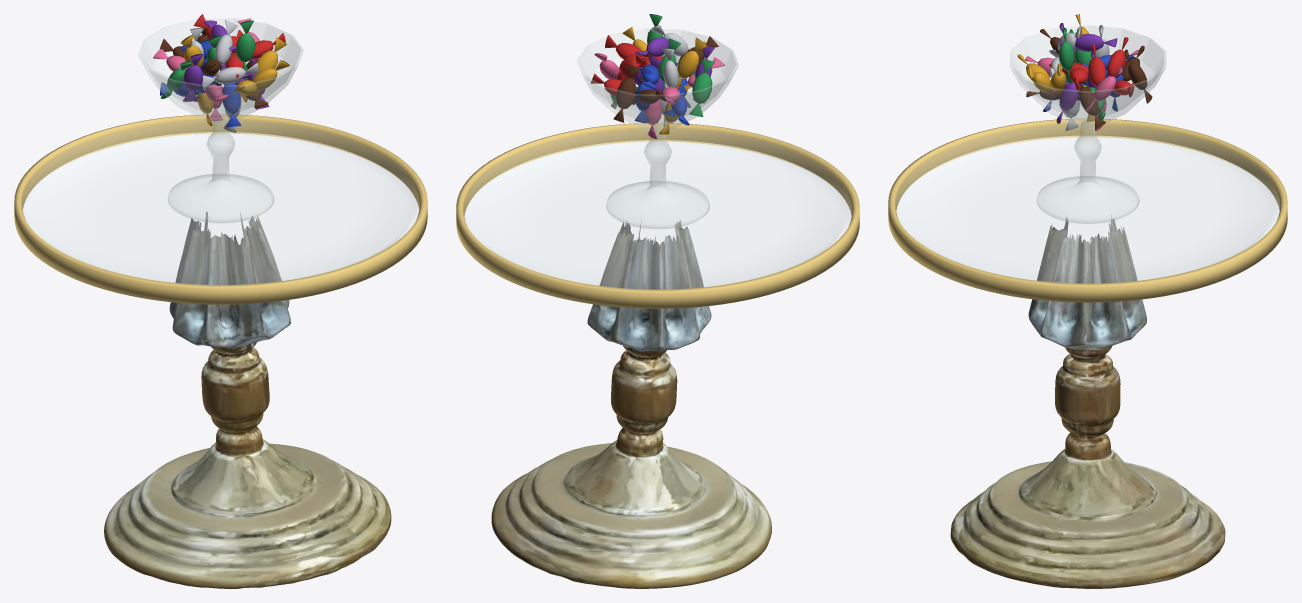
The model's file is konfet.glb.
3 views of the same model, side by side, from view 1: azimuth 30°, elevation 25°; view 2: azimuth 150°, elevation 25°; view 3: azimuth 270°, elevation 25° (orthographic). The views are drawn at different scales.
Visible parts, largest first — view 1: plate_glass, stend_tilla, plate_rim, bowl, foot; view 2: plate_glass, stend_tilla, plate_rim, bowl, foot; view 3: plate_glass, stend_tilla, plate_rim, bowl, foot.
Boxes of the visible parts, left/top/right/bottom form: plate_glass: left=22, top=120, right=419, bottom=285; stend_tilla: left=104, top=211, right=391, bottom=588; plate_rim: left=14, top=114, right=427, bottom=304; bowl: left=138, top=18, right=303, bottom=123; foot: left=168, top=116, right=273, bottom=222; plate_glass: left=464, top=129, right=851, bottom=289; stend_tilla: left=491, top=220, right=771, bottom=588; plate_rim: left=456, top=123, right=859, bottom=308; bowl: left=577, top=29, right=738, bottom=131; foot: left=606, top=125, right=709, bottom=228; plate_glass: left=896, top=125, right=1279, bottom=283; stend_tilla: left=950, top=214, right=1225, bottom=588; plate_rim: left=888, top=118, right=1287, bottom=302; bowl: left=1010, top=25, right=1165, bottom=127; foot: left=1036, top=120, right=1139, bottom=223.
Bounding box in the file's own units: 1.03 × 1.44 × 1.03.
Materials: 12 (1 with a texture image).
